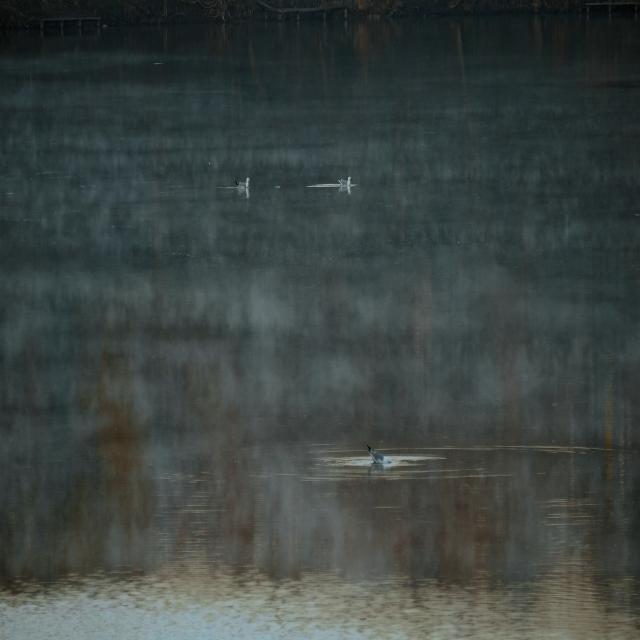bird: (360, 434, 395, 474), (225, 175, 256, 197), (336, 168, 356, 195)
